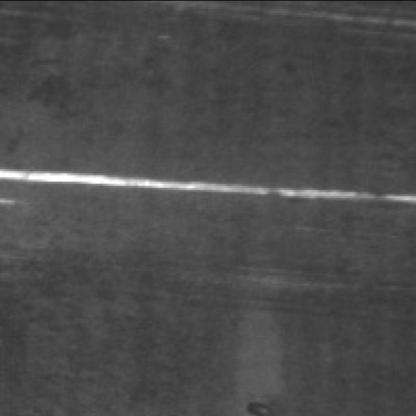scratches: (0, 171, 406, 210)
